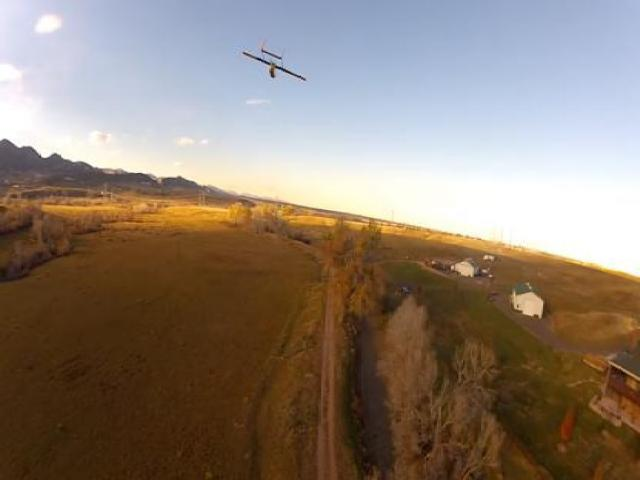uav: (242, 40, 309, 86)
